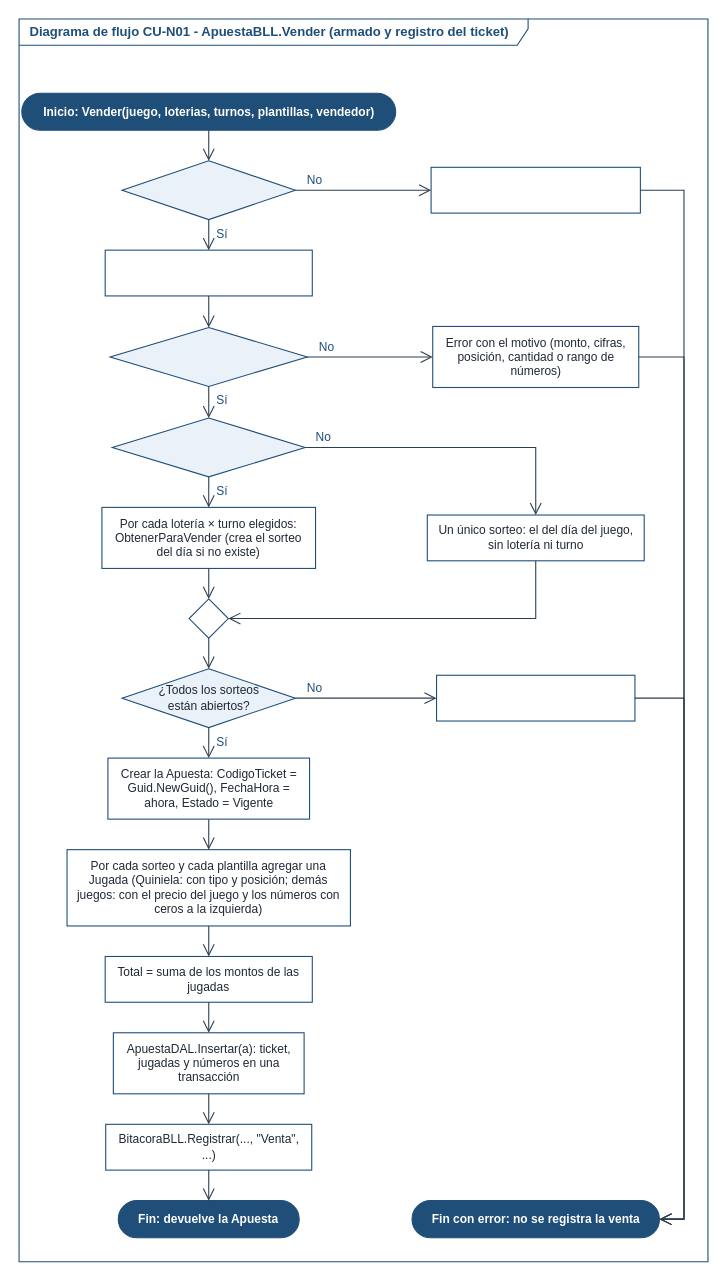
Image size: 727x1281. Some labels were removed from this diagram. The box of each missing label's shape, as (x1, y1, x2, y2) in pixels:
Error: "Cargá al menos una jugada antes de confirmar la venta.": (430, 166, 640, 213)
Error: "El sorteo … ya no acepta apuestas (está …).": (435, 674, 635, 721)
Validar cada jugada con las reglas del juego (ValidarJugada): (104, 249, 312, 296)
¿El juego se sortea por lotería y turno?: (111, 417, 305, 477)
¿Hay al menos una jugada?: (121, 160, 295, 220)
¿Todas las jugadas son válidas?: (109, 326, 307, 386)
